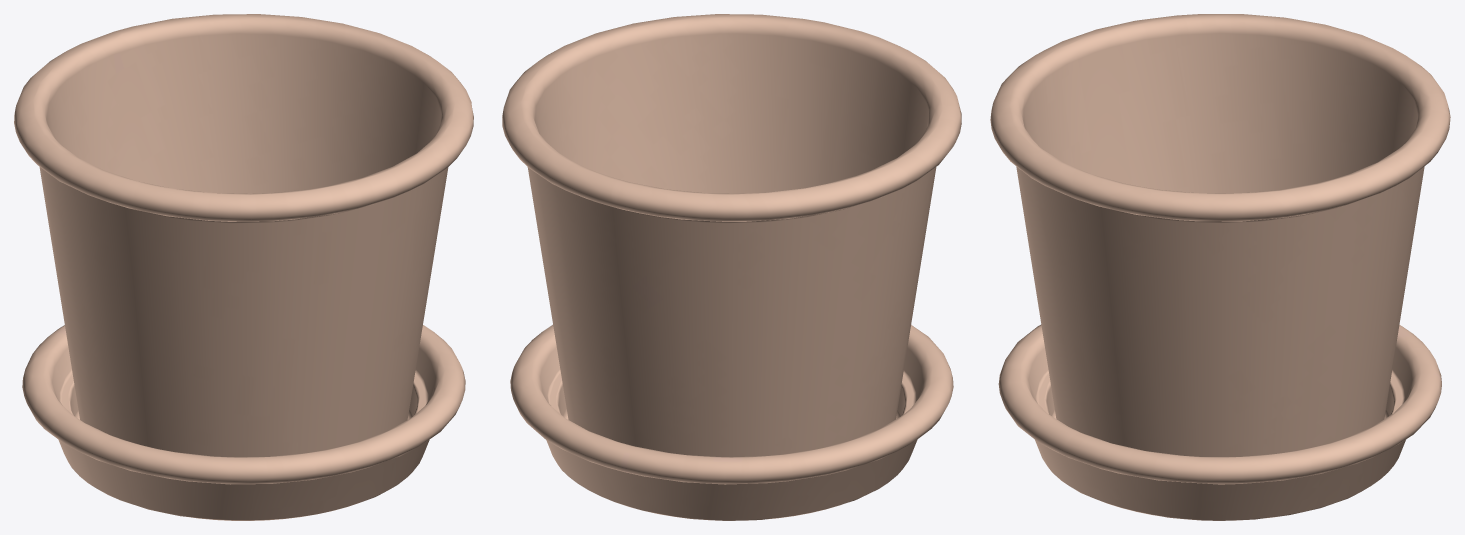
The picture shows the model from 3 angles, left to right: view 1: azimuth 30°, elevation 25°; view 2: azimuth 150°, elevation 25°; view 3: azimuth 270°, elevation 25°; orthographic projection.
Visible parts, largest first — view 1: model; view 2: model; view 3: model.
Boxes of the visible parts, box(x1,y1,x2,y2) form: model: box(14, 14, 473, 520); model: box(502, 14, 961, 520); model: box(990, 14, 1450, 520).
Bounding box in the file's own units: 0.16 × 0.1331 × 0.16.
Materials: 1 (1 with a texture image).
